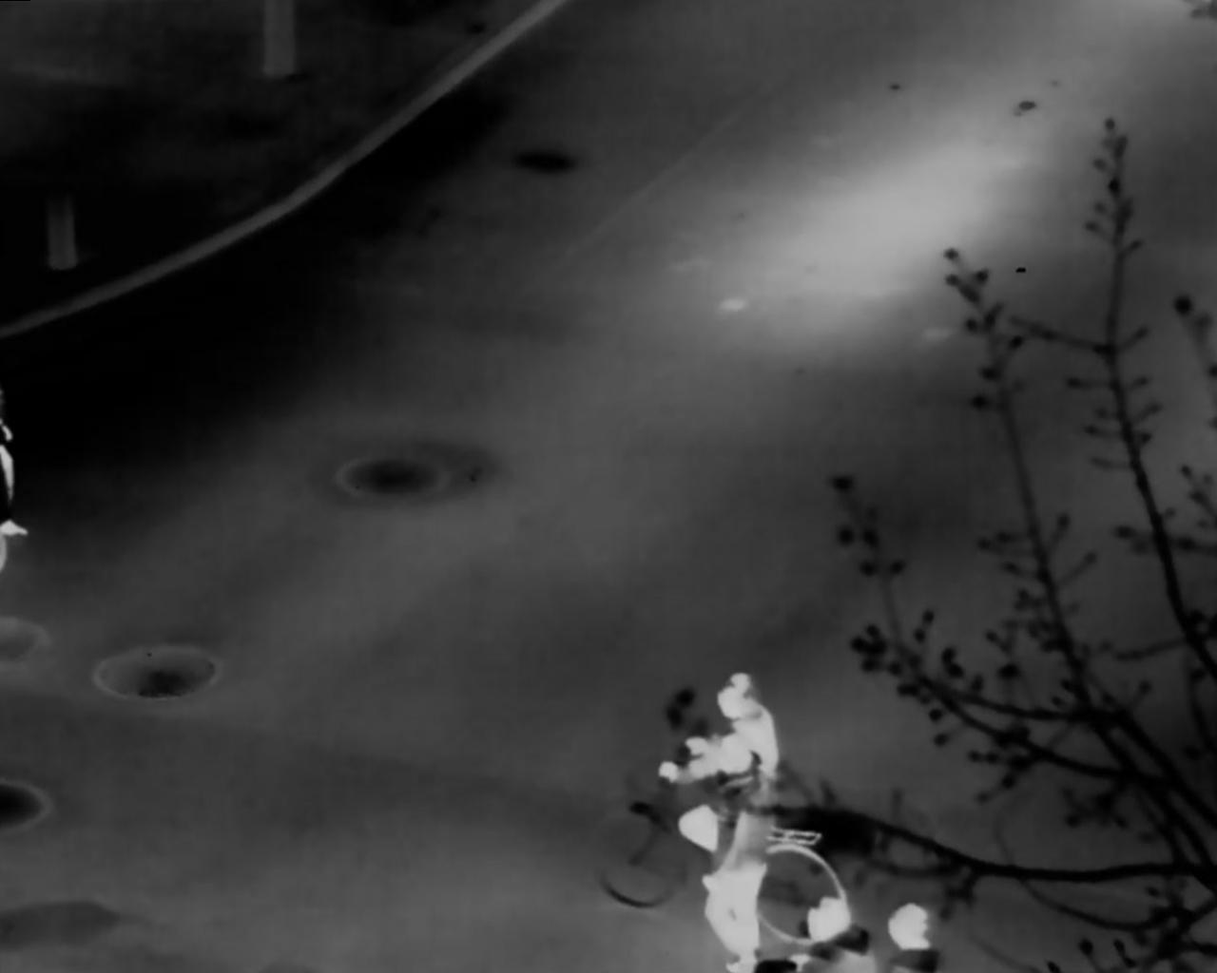person: (660, 671, 779, 852), (704, 735, 768, 973)
